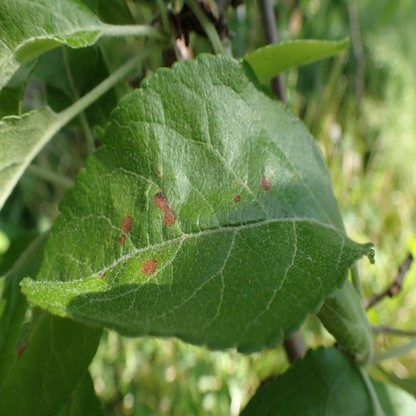frogeye_leaf_spot: (154, 192, 176, 225), (117, 216, 133, 246), (141, 258, 157, 275), (17, 341, 29, 357), (260, 177, 272, 192), (99, 270, 105, 280), (234, 194, 240, 202)
